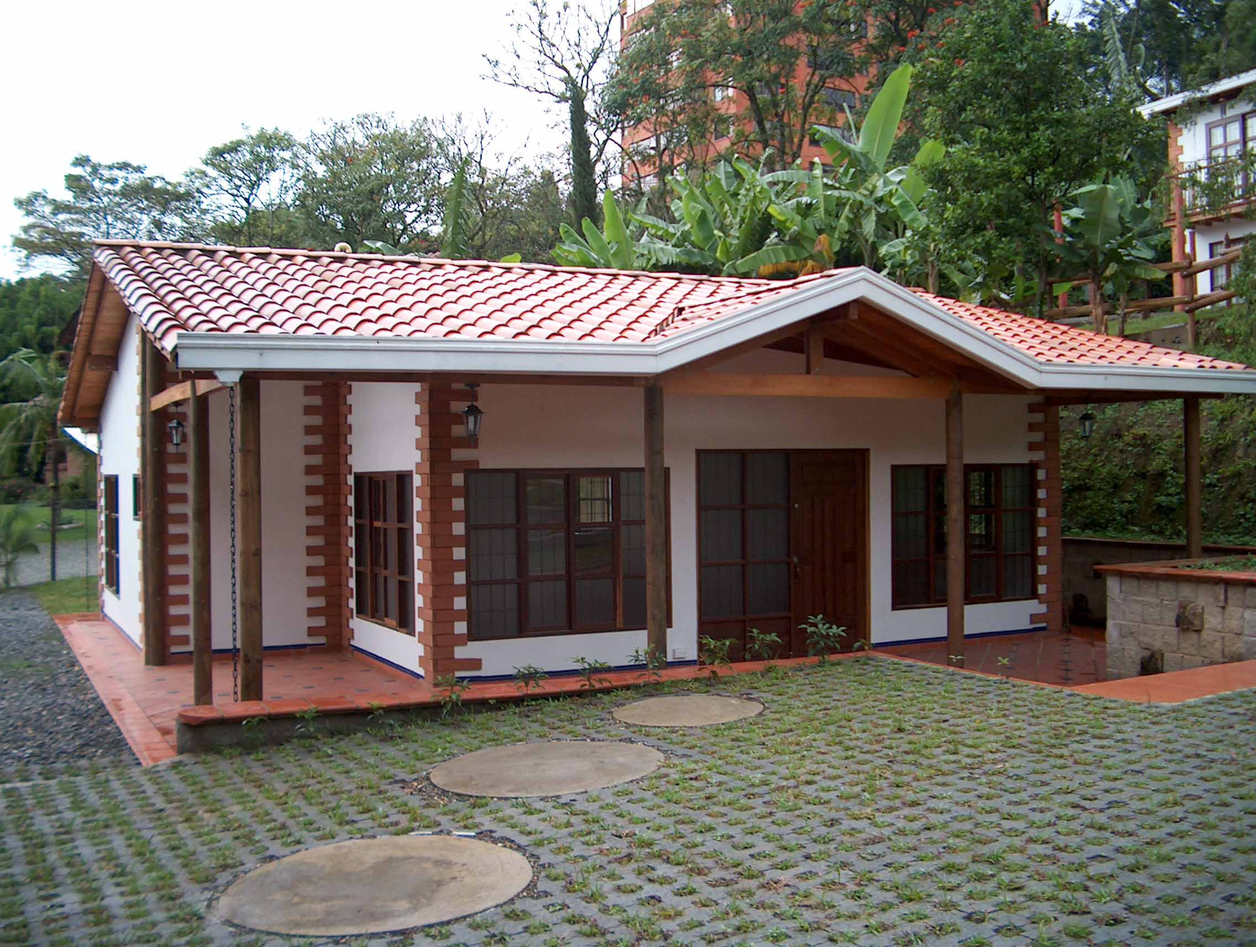House: (53, 201, 1244, 717)
